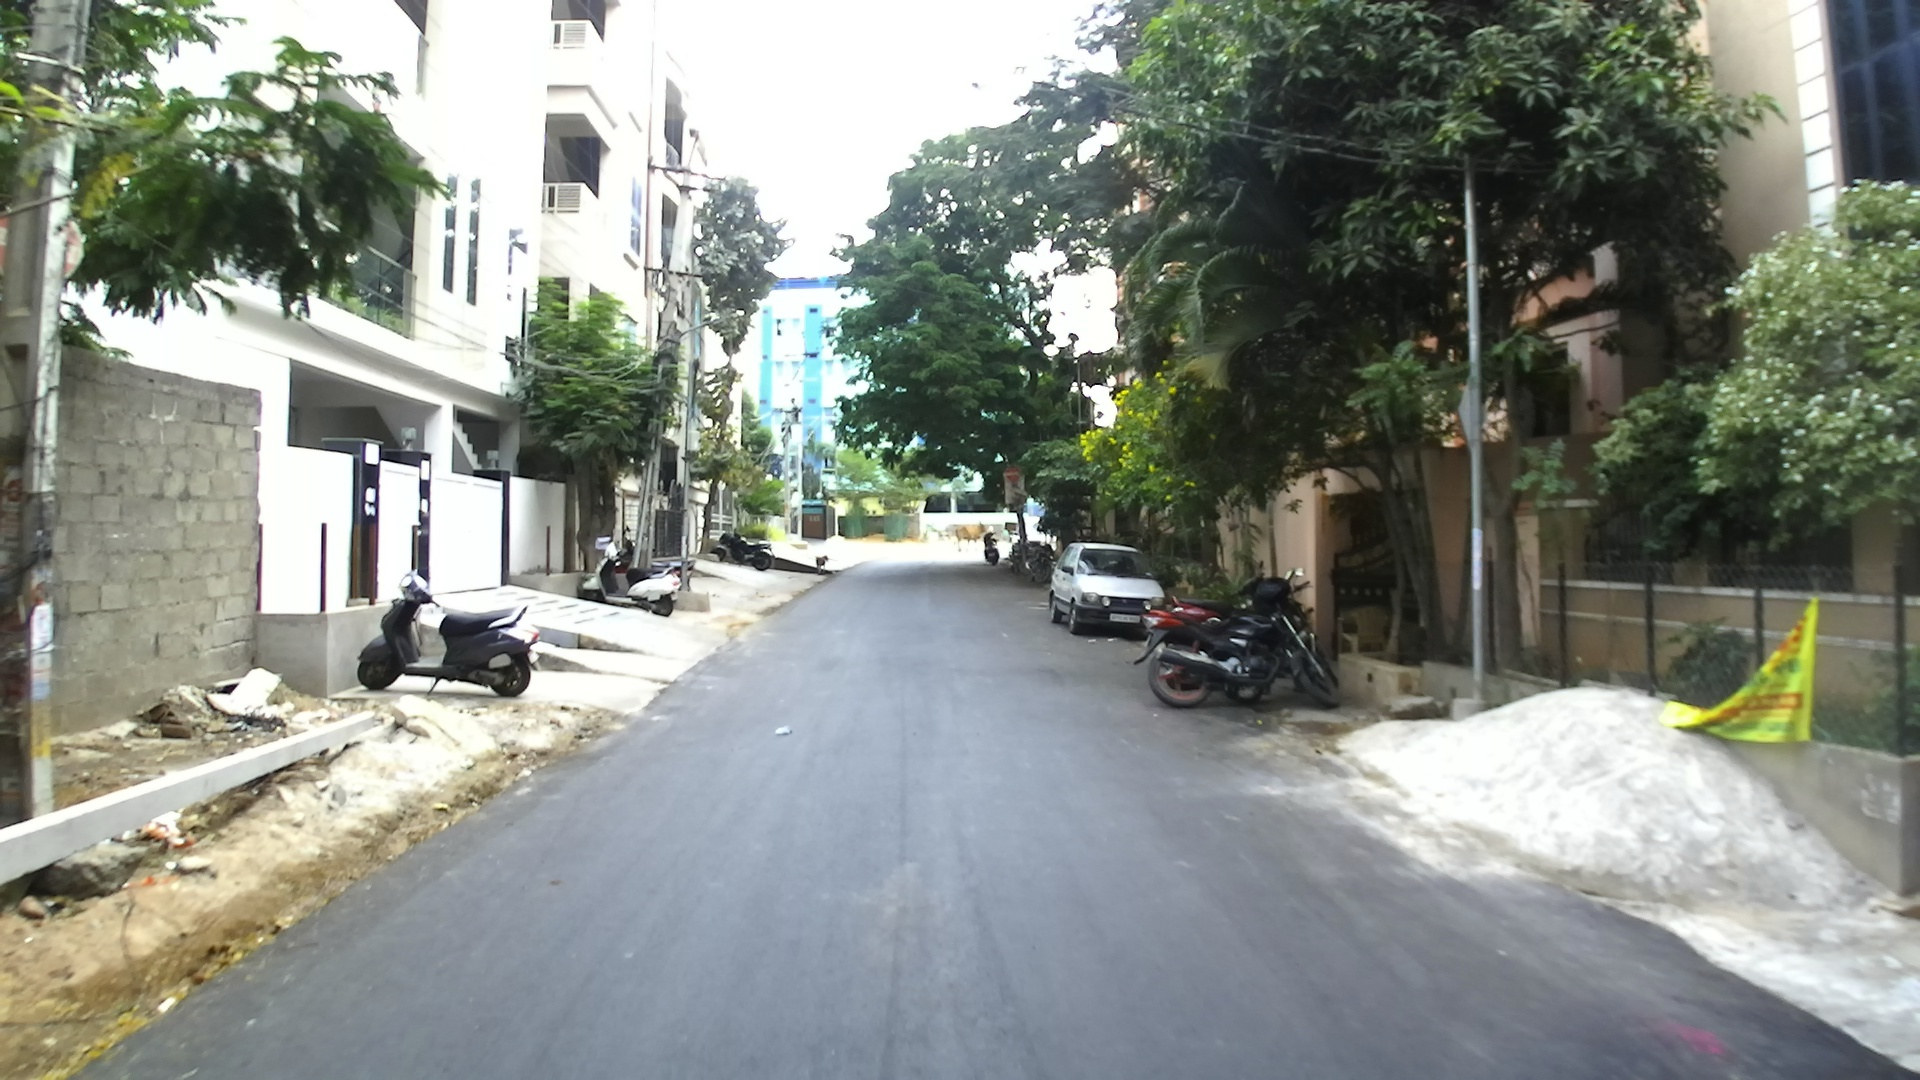vehicle: (1141, 574, 1341, 713), (1047, 542, 1164, 637)
